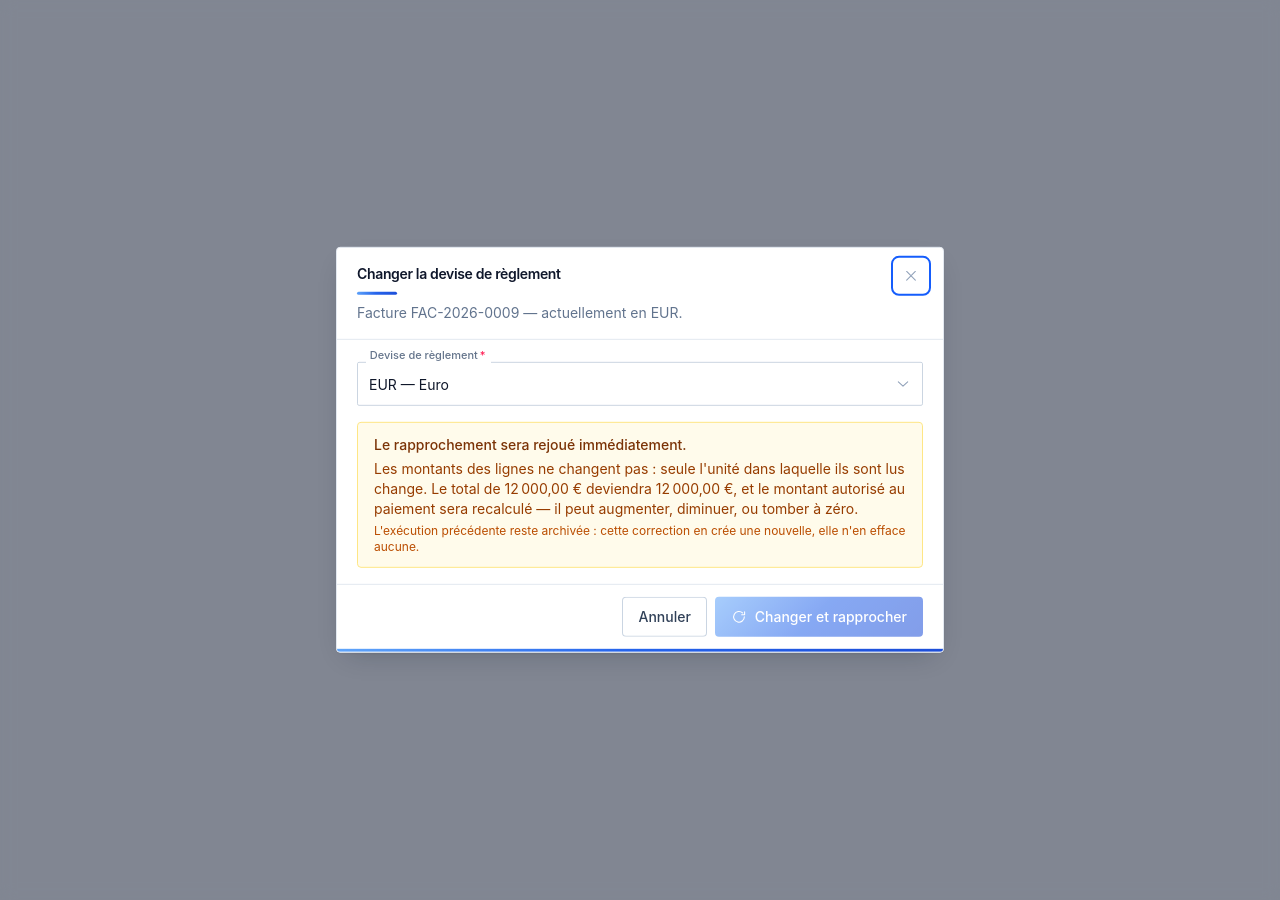
Test: InvoiceCurrencyDialog › relaie le refus d'une facture déjà réglée
This screenshot has width=1280, height=900.
Select "XOF — Franc CFA (BCEAO)" in the dropdown labelled "Devise de règlement*" at (640, 384), box [357, 362, 923, 406]
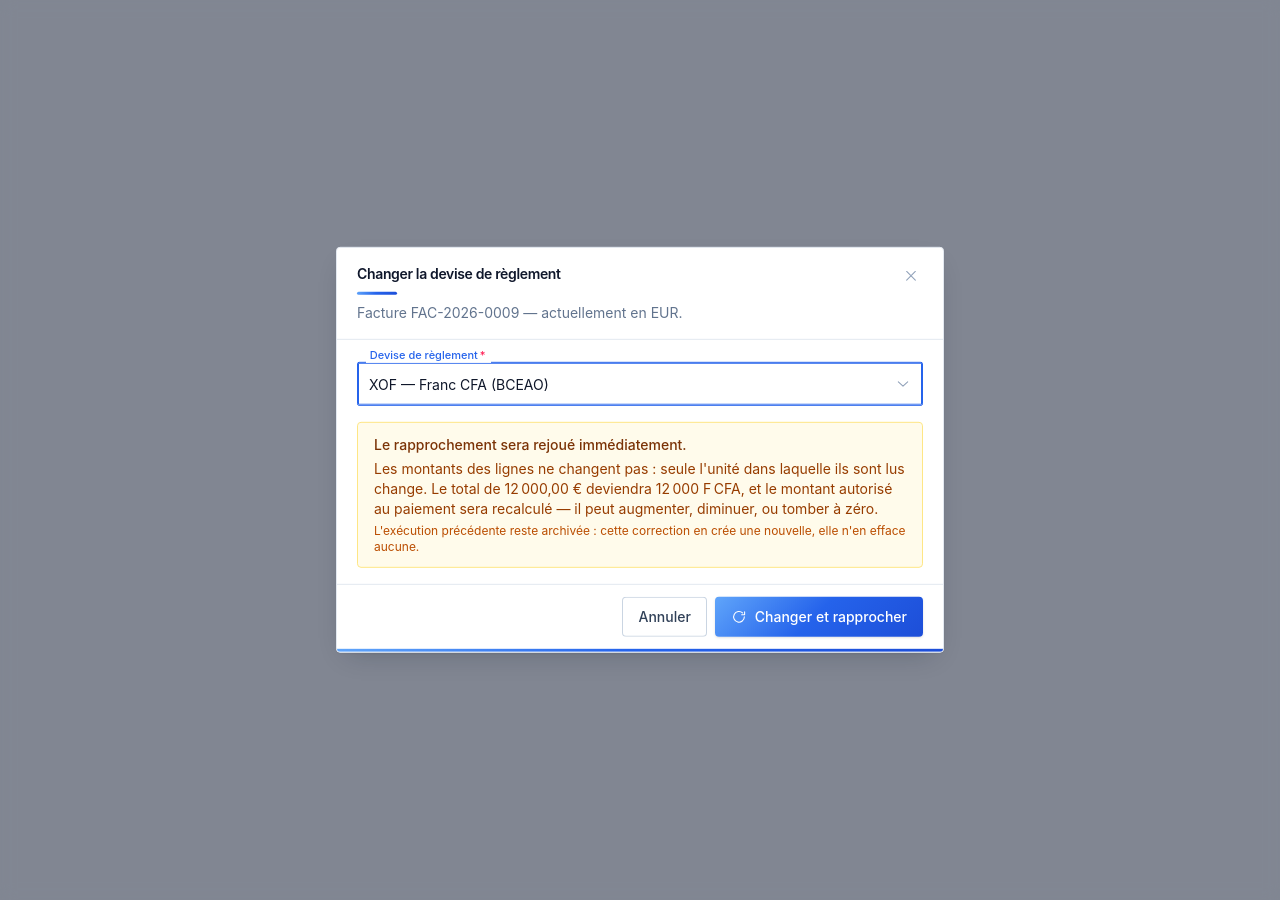
Click the button "Changer et rapprocher" at (819, 617), box [715, 597, 923, 637]
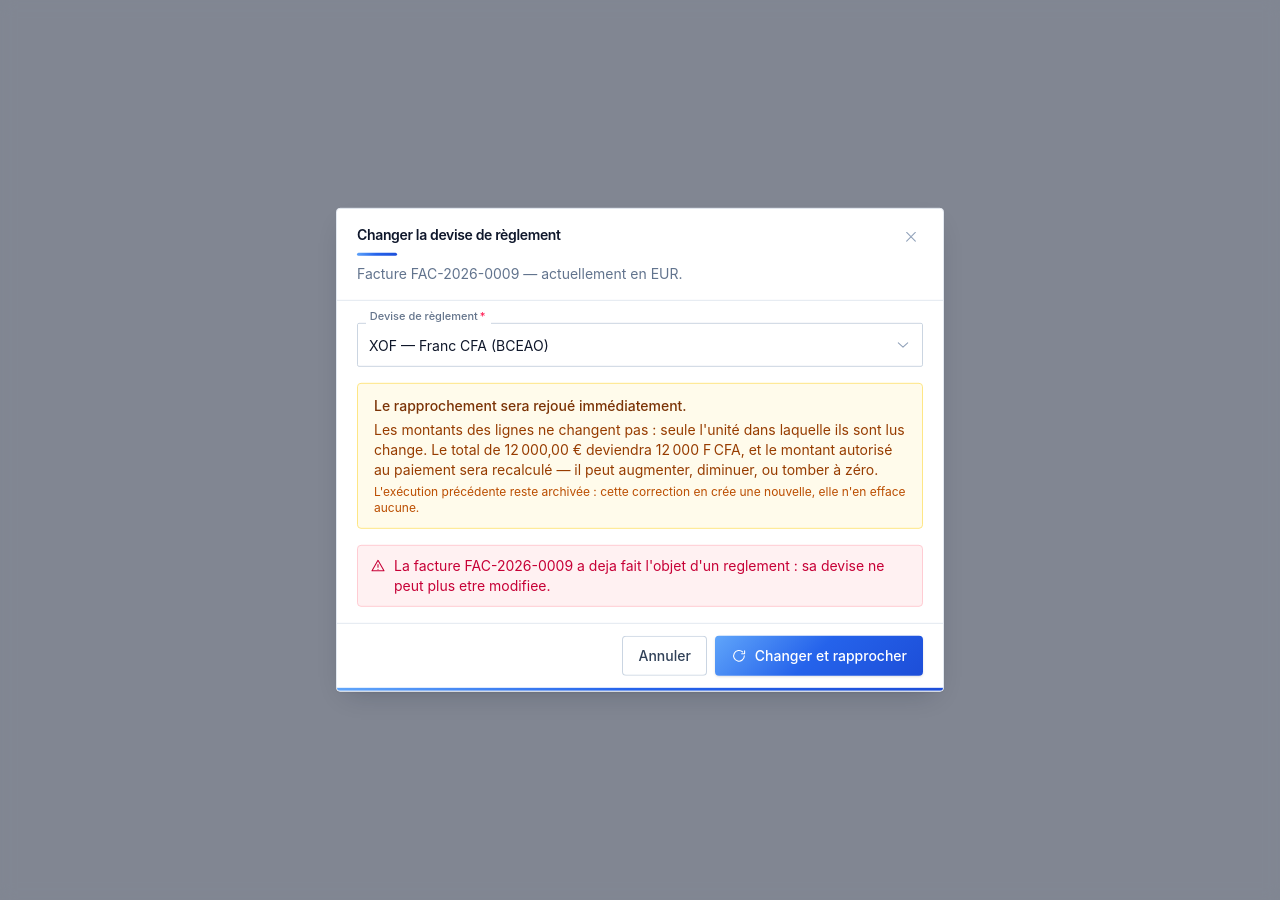
Check: the message shows "deja fait l'objet d'un reglement", box [394, 557, 884, 594]
